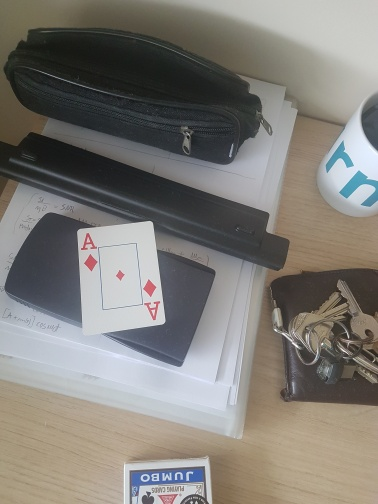ace: (77, 220, 167, 335)
